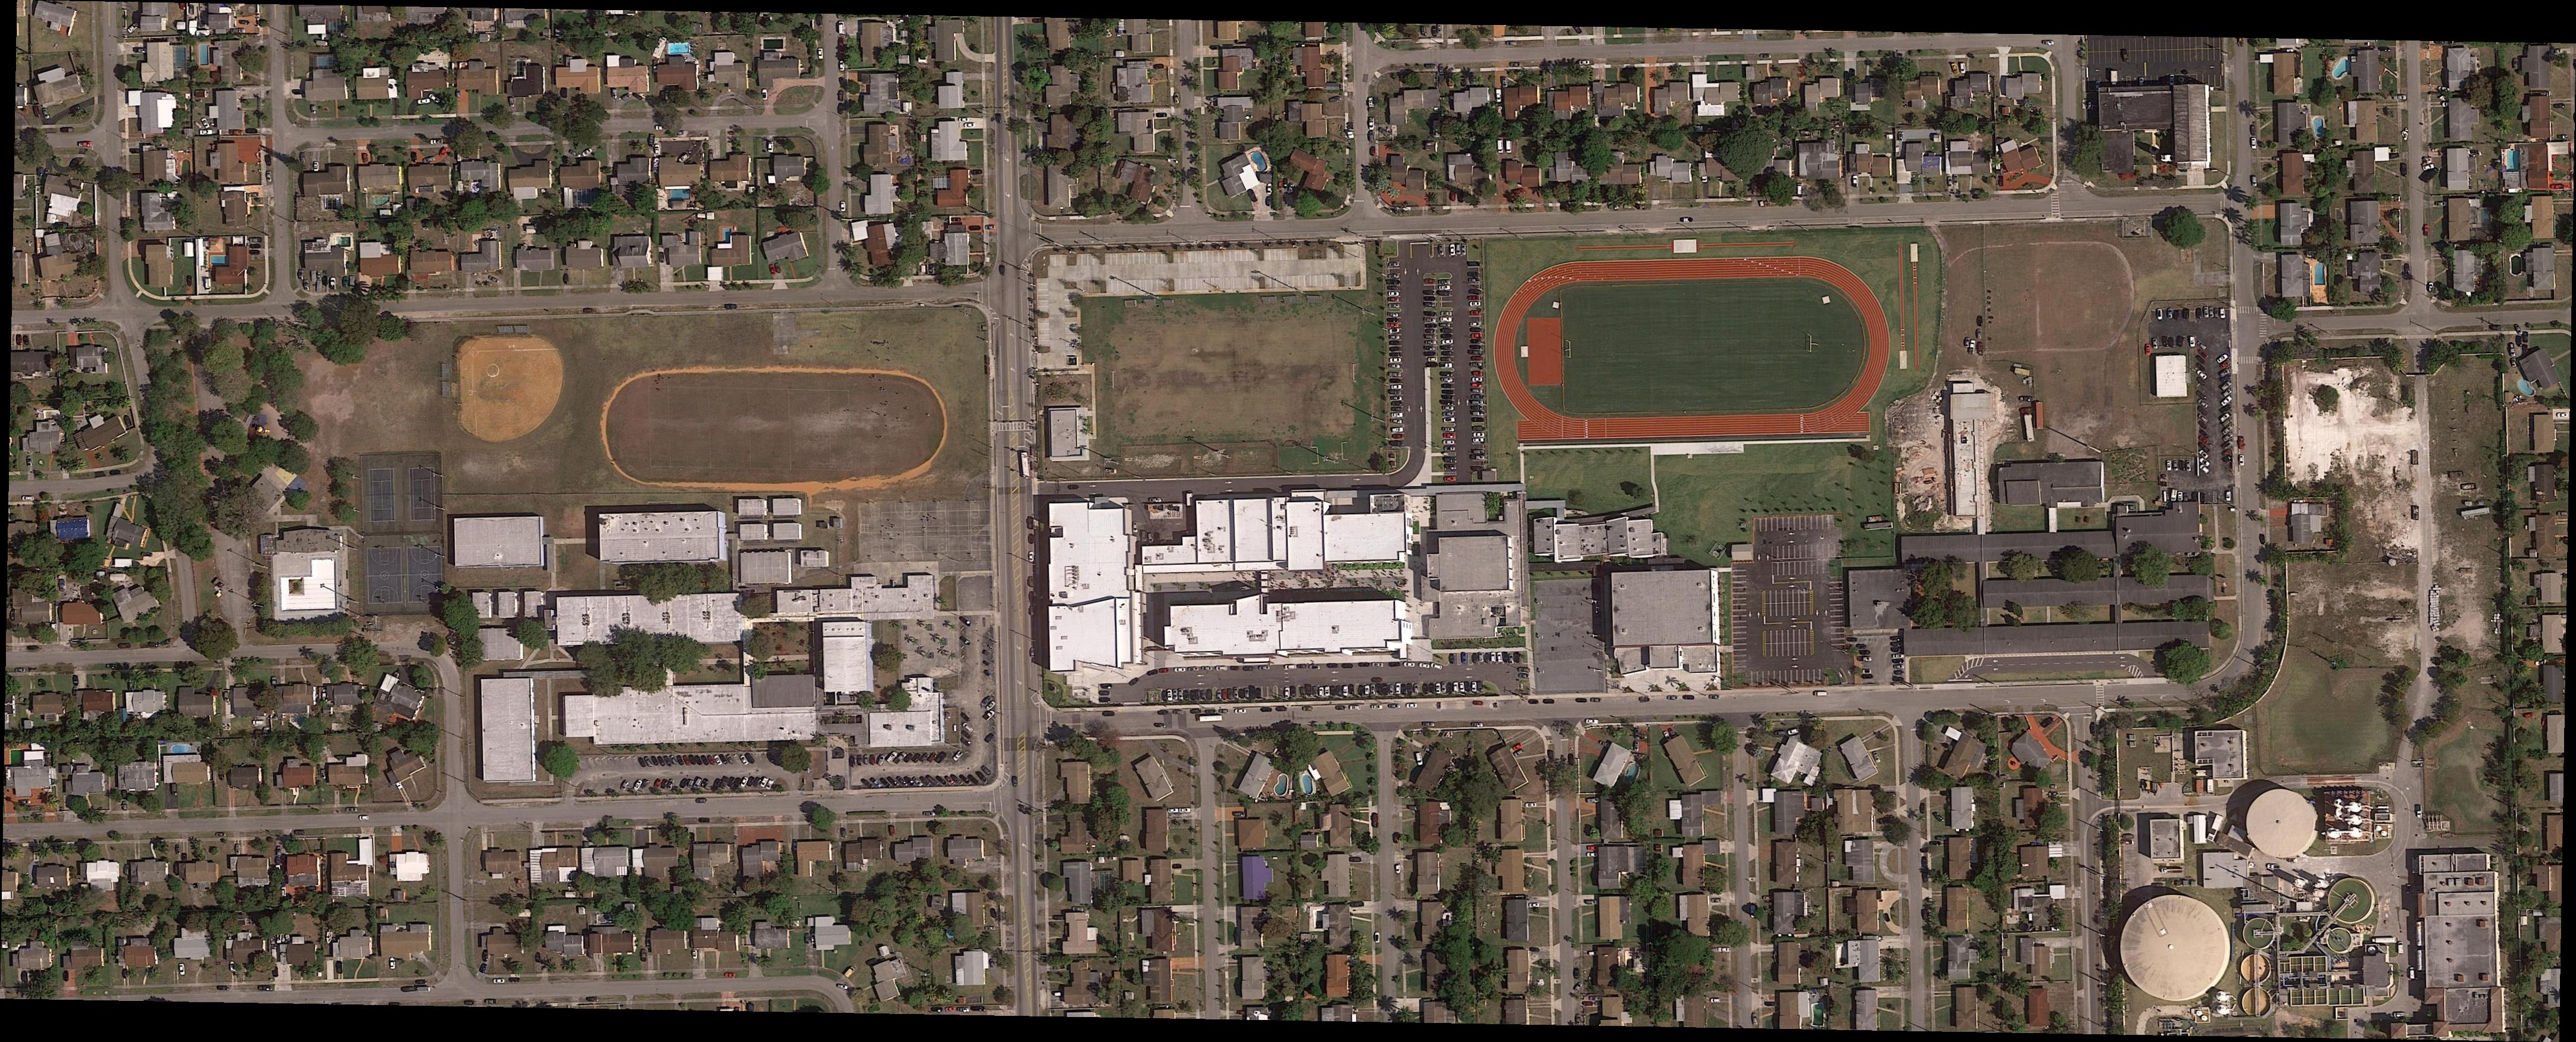ship: (326, 931, 332, 944)
